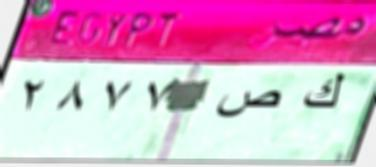2: (22, 74, 46, 116)
7: (102, 75, 132, 117), (146, 77, 174, 115)
8: (55, 80, 89, 116)
kaaf: (303, 66, 345, 122)
saad: (214, 88, 286, 126)
